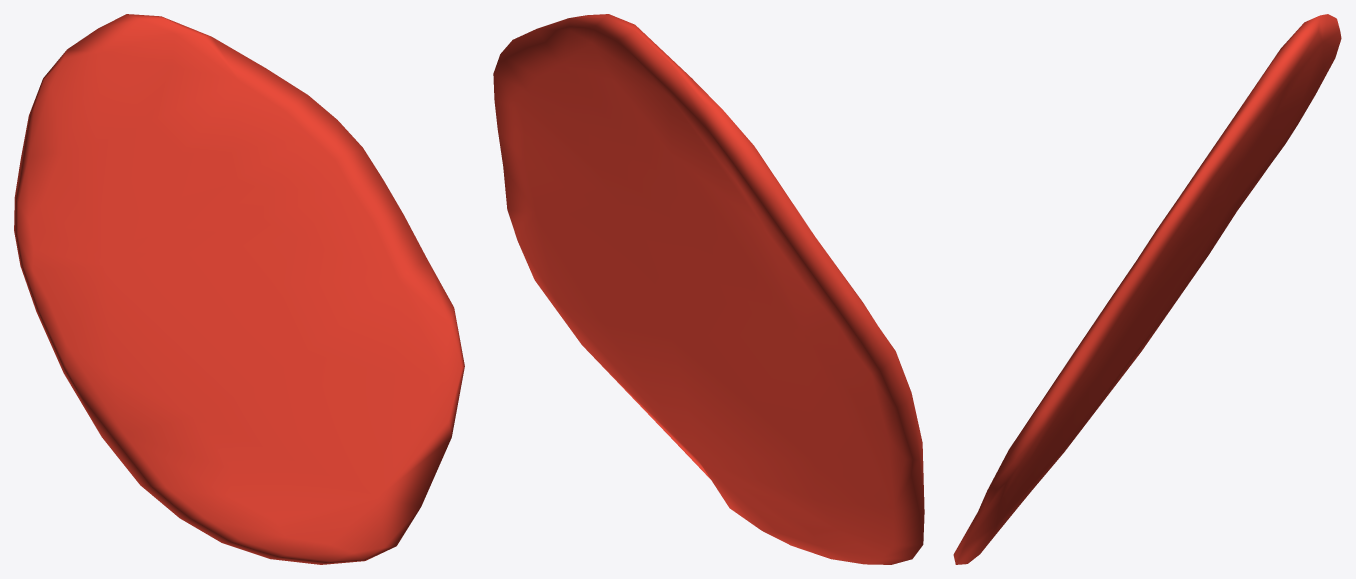
The model's file is Pronator_teres_humeral_insertion_left.glb.
3 views of the same model, side by side, from view 1: azimuth 30°, elevation 25°; view 2: azimuth 150°, elevation 25°; view 3: azimuth 270°, elevation 25° (orthographic). The views are drawn at different scales.
Visible parts, largest first — view 1: Pronator_teres_muscle-Humeral_insertion.l_Generated_Mesh_Fro; view 2: Pronator_teres_muscle-Humeral_insertion.l_Generated_Mesh_Fro; view 3: Pronator_teres_muscle-Humeral_insertion.l_Generated_Mesh_Fro.
Boxes of the visible parts, x1,y1,x2,y2 form: Pronator_teres_muscle-Humeral_insertion.l_Generated_Mesh_Fro: (14,14,464,564); Pronator_teres_muscle-Humeral_insertion.l_Generated_Mesh_Fro: (493,14,924,564); Pronator_teres_muscle-Humeral_insertion.l_Generated_Mesh_Fro: (953,14,1341,564).
Size of the model in its own units: 0.00839 by 0.0107 by 0.00743.
